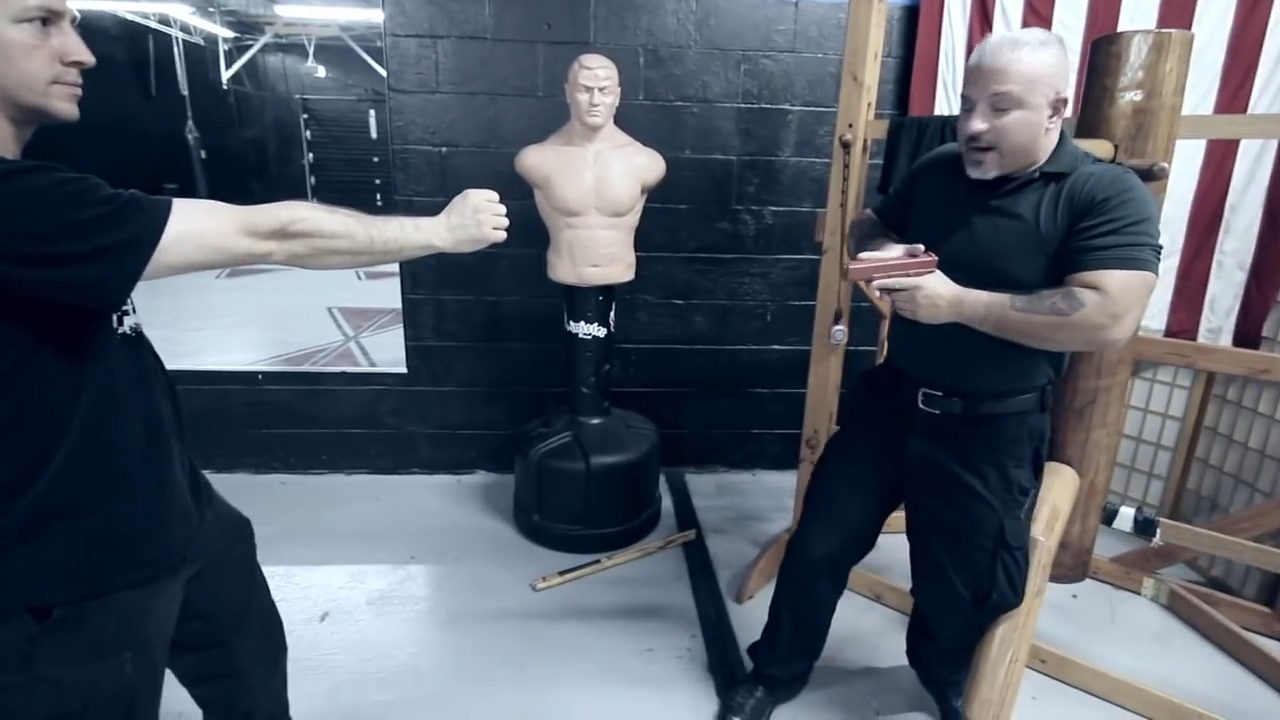pistol: (839, 249, 940, 297)
